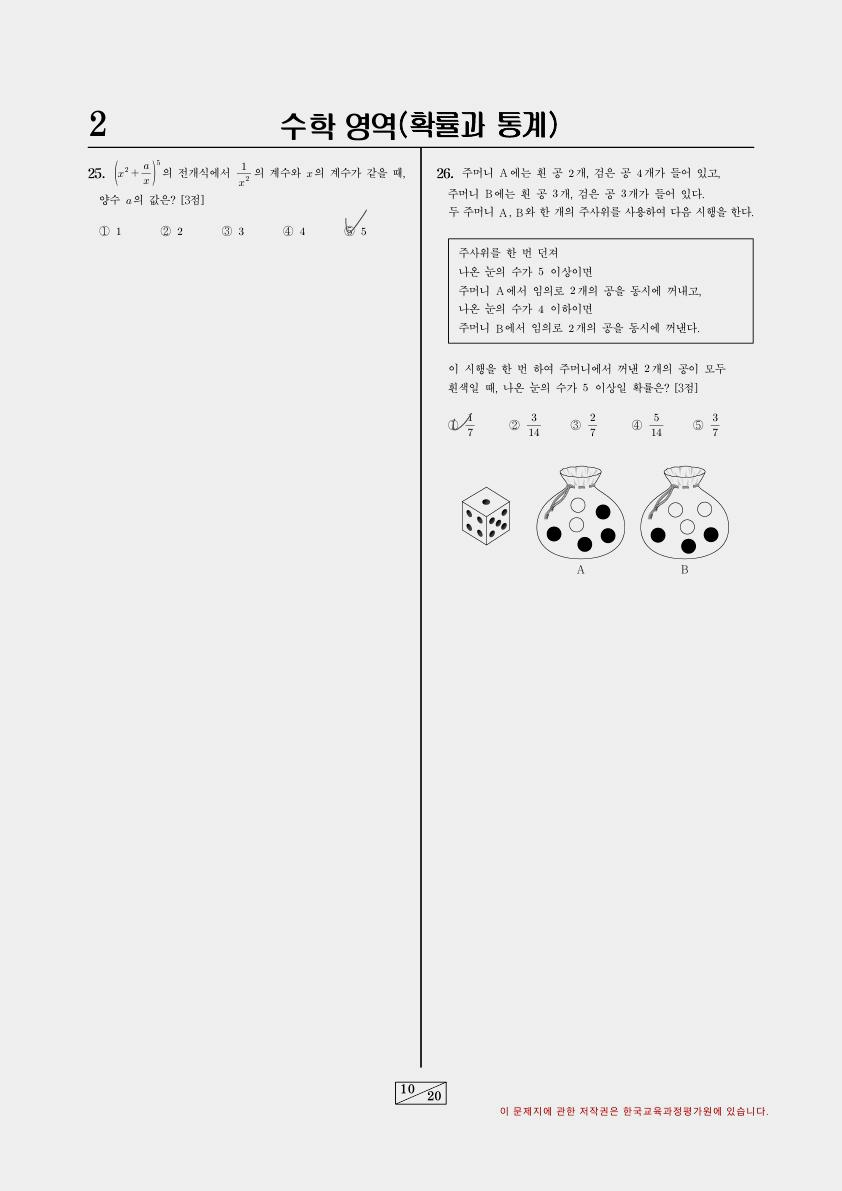question: (422, 157, 766, 586), (74, 152, 420, 251)
